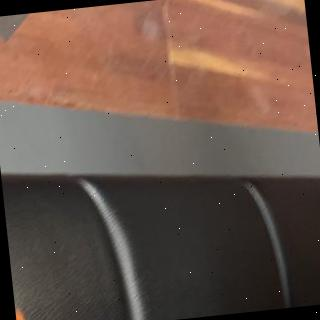fire: (14, 305, 30, 320)
